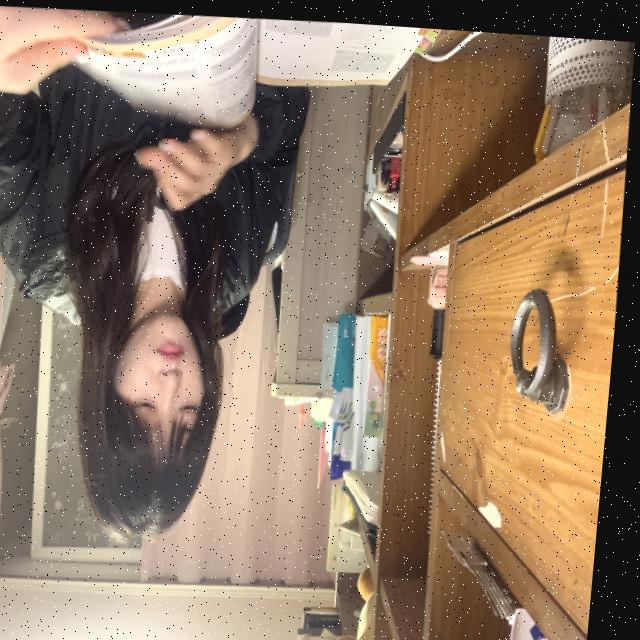studying-person: (0, 0, 469, 569)
